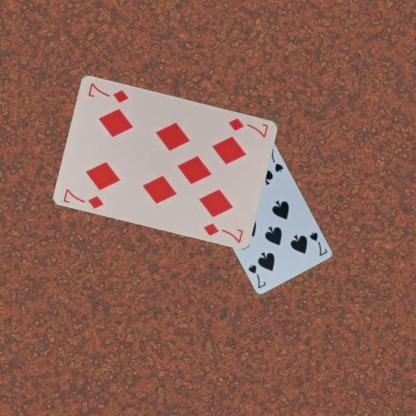7d: (226, 115, 270, 139), (61, 186, 105, 210)
7s: (307, 229, 329, 257)
